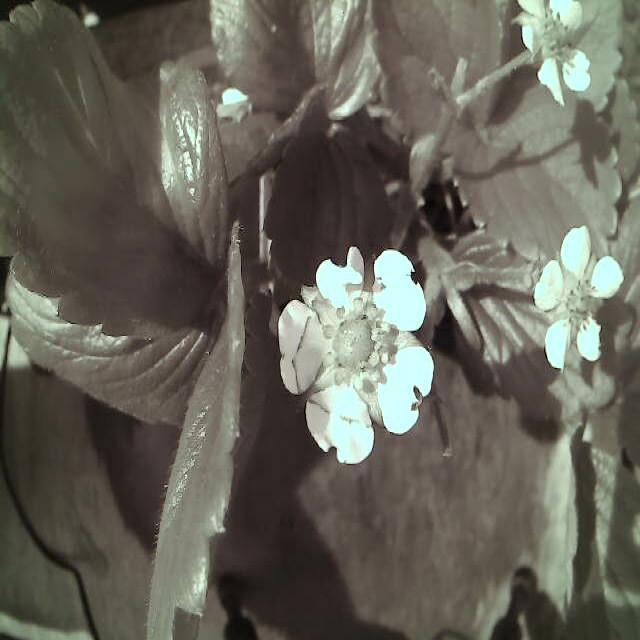flower: (273, 236, 446, 471), (532, 220, 631, 377), (514, 1, 600, 105)
